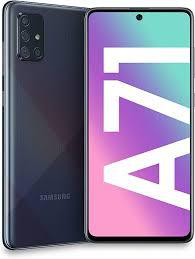Smartphone: (89, 9, 187, 245), (9, 1, 88, 243)
